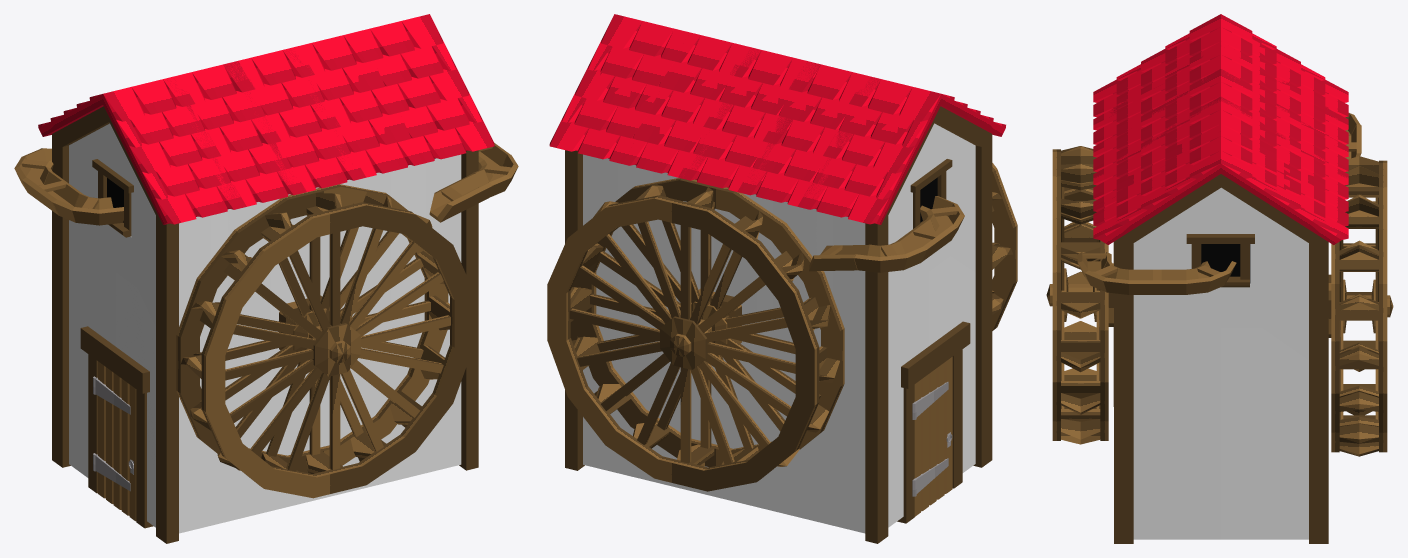
Rendered from watermill.obj.
The picture shows the model from 3 angles, left to right: view 1: azimuth 30°, elevation 25°; view 2: azimuth 150°, elevation 25°; view 3: azimuth 270°, elevation 25°; orthographic projection. The views are drawn at different scales.
Parts seen in each view (by area): view 1: waterwheel.002, object5.008_object5.039, object5.006_object5.037, object5.007_object5.038, object5.010_object5.041, object3.006_object3.070, object5.009_object5.040, object1.002_object1.001, object4.001_object4.001, object3.004_object3.068, flume_end.002, flume_corner.002_flume_corner.006 (+4 smaller); view 2: waterwheel.001, object5.008_object5.039, object5.006_object5.037, object5.007_object5.038, object5.009_object5.040, object3.006_object3.070, object5.010_object5.041, object1.002_object1.001, object4.001_object4.001, waterwheel.002, object3.004_object3.068, flume_corner.001_flume_corner.005 (+4 smaller); view 3: object5.006_object5.037, waterwheel.002, object3.004_object3.068, waterwheel.001, object5.008_object5.039, object5.010_object5.041, object5.009_object5.040, object5.007_object5.038, object2.006_object2.088, flume_straight.001_flume_straight.003, flume_corner.004, flume_corner.003 (+1 smaller).
Boxes of the visible parts, x1,y1,x2,y2 form: waterwheel.002: (176,184,473,498); object5.008_object5.039: (38,75,246,533); object5.006_object5.037: (359,14,494,476); object5.007_object5.038: (166,60,306,521); object5.010_object5.041: (284,31,426,491); object3.006_object3.070: (52,106,178,543); object5.009_object5.040: (223,46,365,505); object1.002_object1.001: (80,326,153,528); object4.001_object4.001: (98,361,136,521); object3.004_object3.068: (459,150,478,470); flume_end.002: (429,172,492,222); flume_corner.002_flume_corner.006: (52,194,123,225); waterwheel.001: (547,178,844,491); object5.008_object5.039: (798,75,1005,533); object5.006_object5.037: (549,14,689,477); object5.007_object5.038: (737,60,880,521); object5.009_object5.040: (678,46,820,506); object3.006_object3.070: (865,106,992,543); object5.010_object5.041: (622,32,760,491); object1.002_object1.001: (897,321,970,523); object4.001_object4.001: (914,357,952,516); waterwheel.002: (992,163,1017,330); object3.004_object3.068: (565,150,584,470); flume_corner.001_flume_corner.005: (853,241,927,272); object5.006_object5.037: (1093,129,1348,539); waterwheel.002: (1046,146,1113,444); object3.004_object3.068: (1114,174,1328,543); waterwheel.001: (1328,156,1393,456); object5.008_object5.039: (1093,14,1348,124); object5.010_object5.041: (1093,96,1348,207); object5.009_object5.040: (1093,69,1348,178); object5.007_object5.038: (1093,46,1348,152); object2.006_object2.088: (1186,234,1254,287); flume_straight.001_flume_straight.003: (1129,269,1186,294); flume_corner.004: (1078,260,1128,294); flume_corner.003: (1186,261,1236,294).
Size of the model in its own units: 113 by 114 by 92.25.
4 materials, 4 textured.
